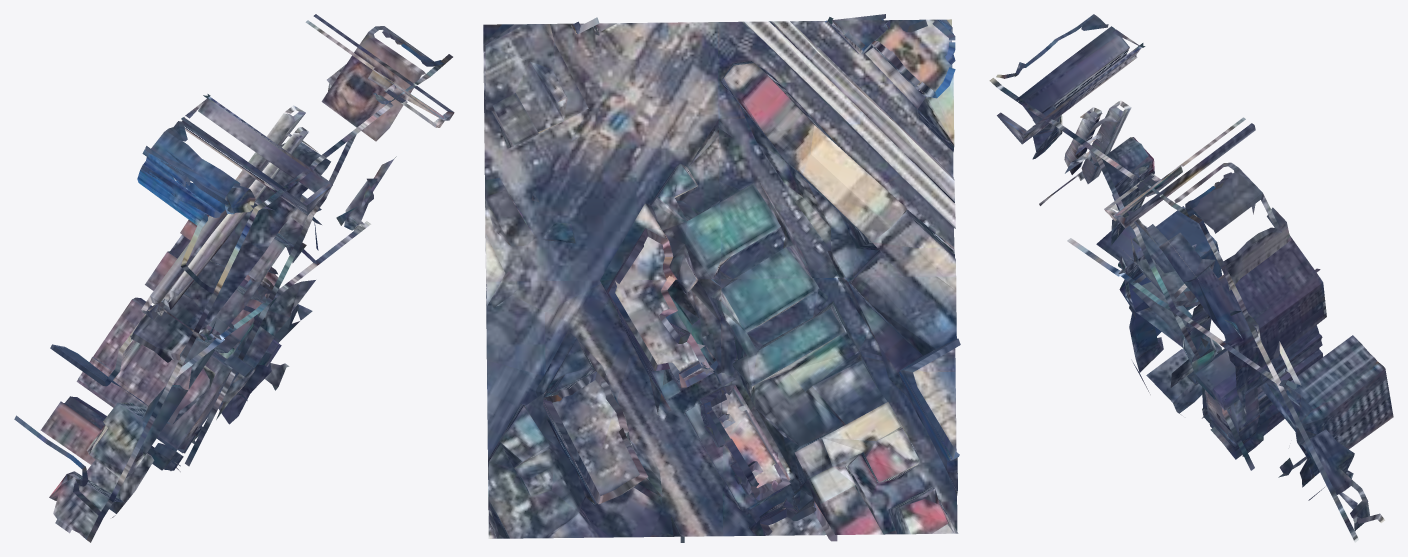
The picture shows the model from 3 angles, left to right: view 1: azimuth 30°, elevation 25°; view 2: azimuth 150°, elevation 25°; view 3: azimuth 270°, elevation 25°; orthographic projection. The views are drawn at different scales.
Bounding box in the file's own units: 167 × 158 × 141.
2 materials, 2 textured.
